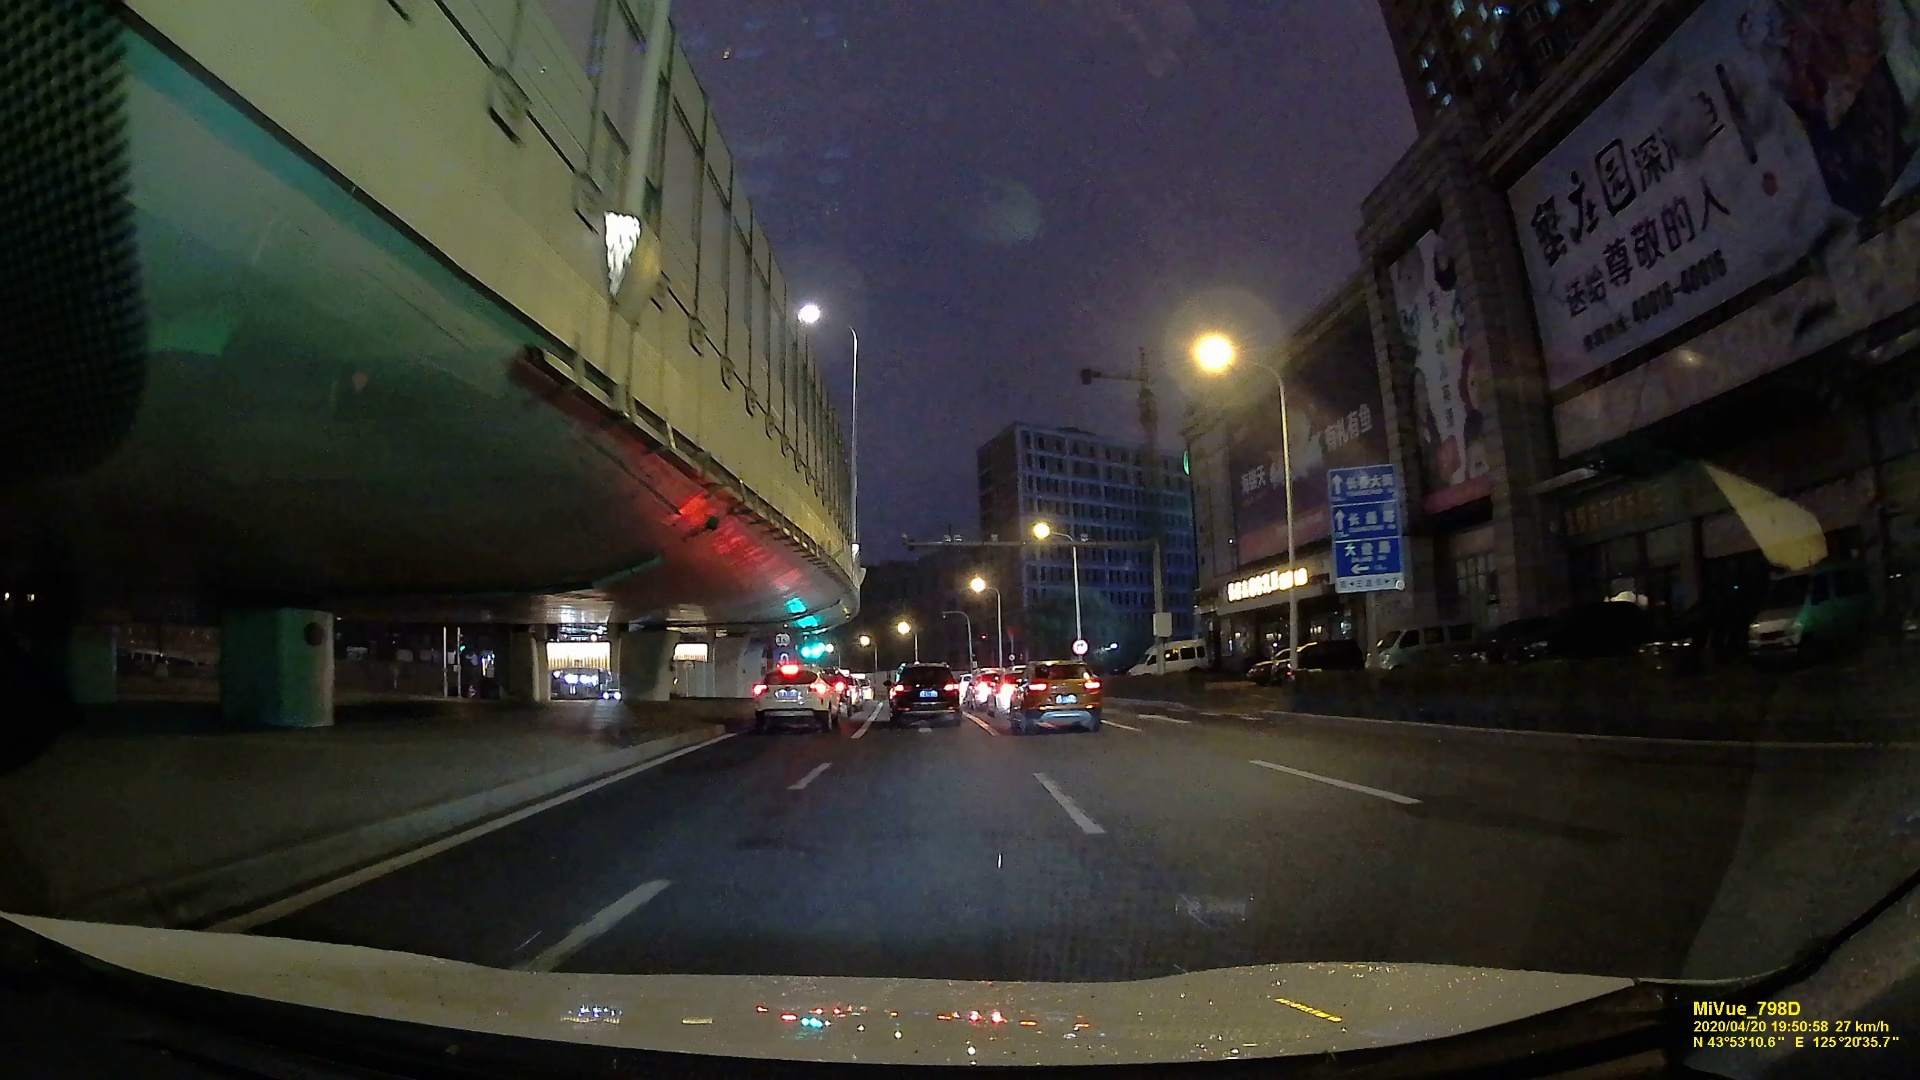minibus: (1749, 564, 1854, 662), (1367, 621, 1464, 674), (1127, 638, 1204, 676)
traffic_sign: (1333, 469, 1395, 589)
vehicle: (1007, 658, 1102, 731), (749, 661, 841, 731), (886, 661, 963, 727)
